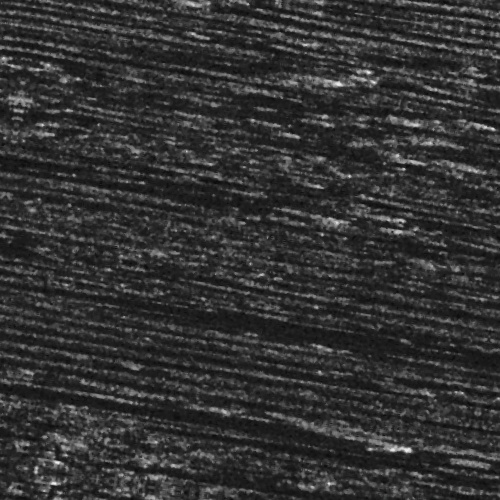object: (433, 475, 496, 482), (481, 434, 500, 441)
shadow: (244, 475, 464, 482), (439, 434, 500, 441)
